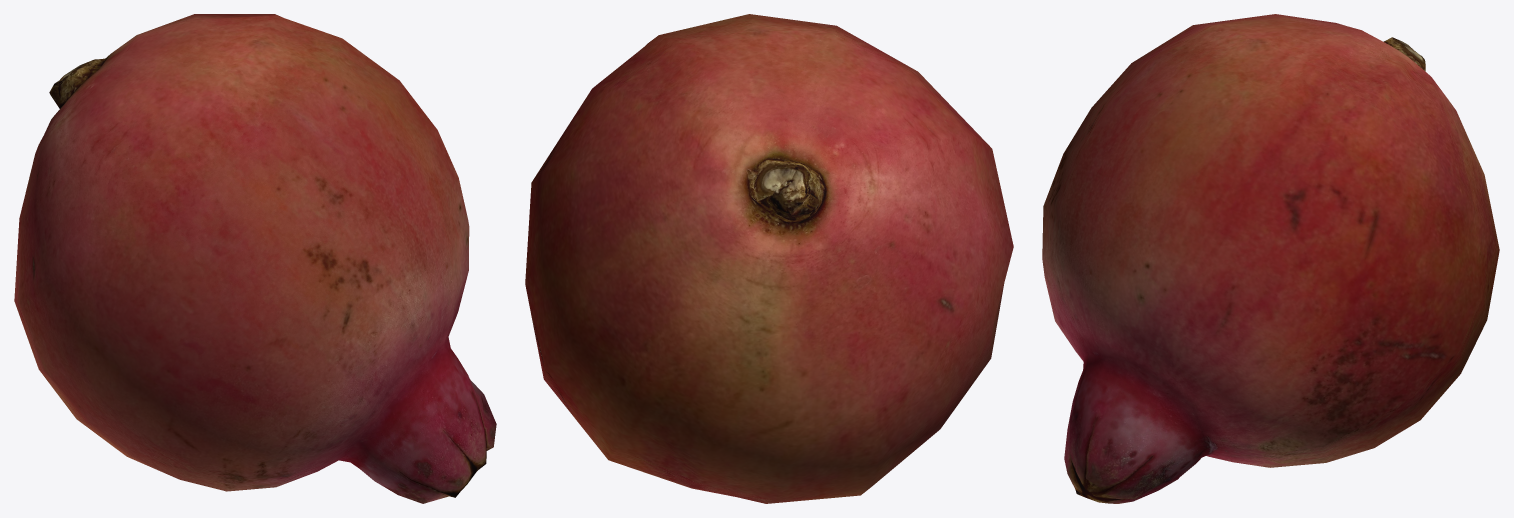
The model's file is pomegranate.glb.
3 renders of one model, left to right at view 1: azimuth 30°, elevation 25°; view 2: azimuth 150°, elevation 25°; view 3: azimuth 270°, elevation 25°, orthographic. The views are drawn at different scales.
Parts seen in each view (by area): view 1: Pomegranate_Pomegranate PBR_0; view 2: Pomegranate_Pomegranate PBR_0; view 3: Pomegranate_Pomegranate PBR_0.
Boxes of the visible parts, x1=… form: Pomegranate_Pomegranate PBR_0: x1=14, y1=14, x2=496, y2=503; Pomegranate_Pomegranate PBR_0: x1=525, y1=14, x2=1013, y2=503; Pomegranate_Pomegranate PBR_0: x1=1042, y1=14, x2=1499, y2=503.
Size of the model in its own units: 0.2252 by 0.2275 by 0.2279.
Materials: 1 (1 with a texture image).
